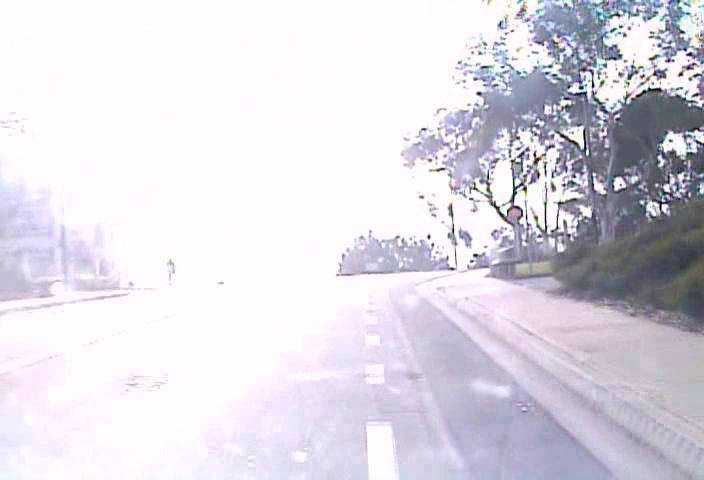stop: (506, 204, 523, 222)
